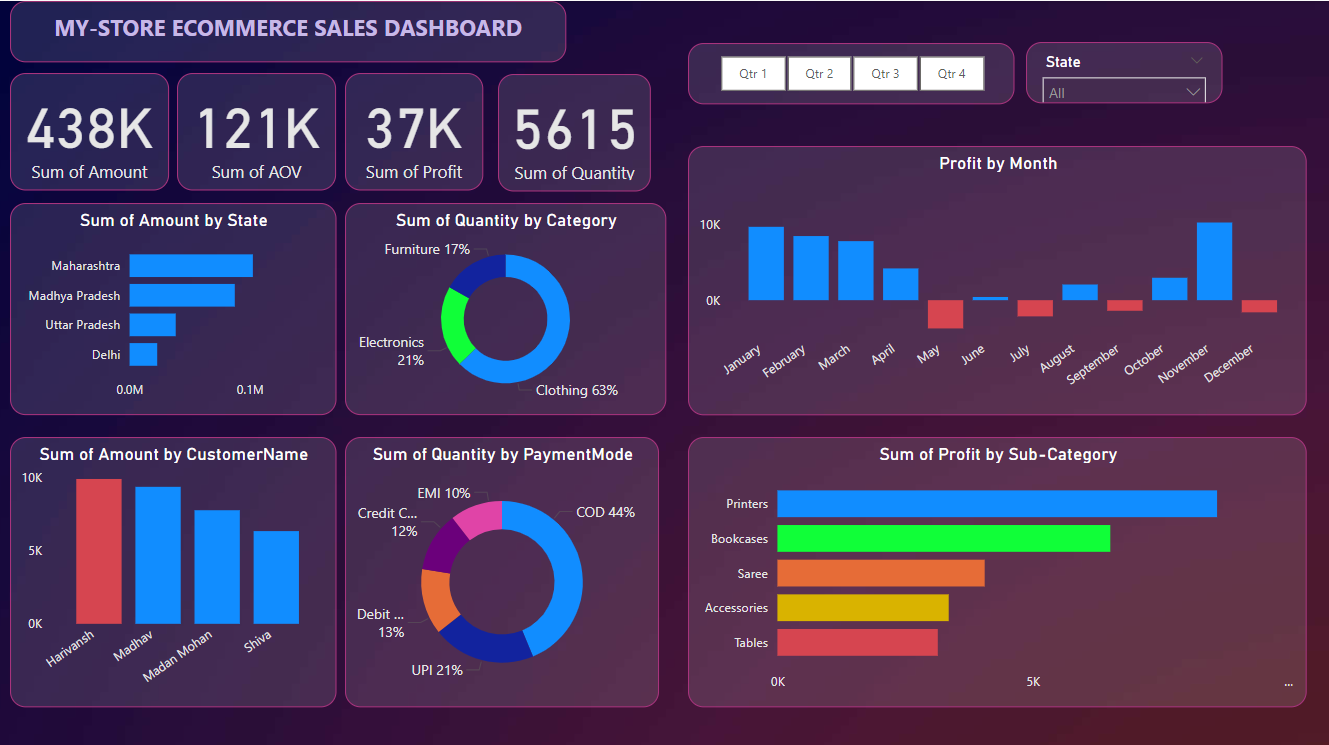

The dashboard page shown, as its layout file describes it:
{"tool":"powerbi","page":{"name":"Page 1","canvas":[1280,720],"ordinal":0},"visuals":[{"type":"textbox","box":[9.7,0,535,59.3],"z":0},{"type":"columnChart","title":" Profit by Month","fields":{"Category":["Orders.Order Date.Variation.Date Hierarchy.Month"],"Y":["Sum(Details.Profit)"]},"box":[661.6,139.4,595.3,258.7],"z":1000},{"type":"barChart","fields":{"Category":["Details.Sub-Category"],"Y":["Sum(Details.Profit)"]},"box":[661.6,419.3,595.3,259.7],"z":2000},{"type":"donutChart","fields":{"Category":["Details.Category"],"Y":["Sum(Details.Quantity)"]},"box":[331.8,194.3,308.7,203.9],"z":3000},{"type":"donutChart","fields":{"Y":["Sum(Details.Quantity)"],"Category":["Details.PaymentMode"]},"box":[331.8,419.3,302,259.7],"z":4000},{"type":"card","fields":{"Values":["Sum(Details.Amount)"]},"box":[9.6,69.2,152.9,113.5],"z":5000},{"type":"card","fields":{"Values":["Sum(Details.AOV)"]},"box":[170.2,69.2,152.9,112.5],"z":6000},{"type":"card","fields":{"Values":["Sum(Details.Profit)"]},"box":[331.8,69.2,132.7,113.5],"z":7000},{"type":"card","fields":{"Values":["Sum(Details.Quantity)"]},"box":[478.9,70.2,147.1,113.5],"z":8000},{"type":"barChart","fields":{"Category":["Orders.State"],"Y":["Sum(Details.Amount)"]},"box":[9.6,194.3,313.5,203.9],"z":9000},{"type":"columnChart","fields":{"Category":["Orders.CustomerName"],"Y":["Sum(Details.Amount)"]},"box":[9.6,419.3,313.5,259.7],"z":10000},{"type":"slicer","fields":{"Values":["Orders.Order Date.Variation.Date Hierarchy.Quarter"]},"box":[661.6,40.4,314.5,58.7],"z":10001},{"type":"slicer","fields":{"Values":["Orders.State"]},"box":[986.7,39.4,189.5,58.7],"z":10002}]}

Visuals, with their boxes in screenshot pixels (x1, y1, x2, y2), scaled from the page's 1280x720 canvas onto the 1329x745 screenshot:
textbox: region(10, 0, 566, 61)
" Profit by Month" columnChart: region(687, 144, 1305, 412)
barChart - Details.Sub-Category x Sum(Details.Profit): region(687, 434, 1305, 703)
donutChart - Details.Category x Sum(Details.Quantity): region(345, 201, 665, 412)
donutChart - Sum(Details.Quantity) x Details.PaymentMode: region(345, 434, 658, 703)
card - Sum(Details.Amount): region(10, 72, 169, 189)
card - Sum(Details.AOV): region(177, 72, 335, 188)
card - Sum(Details.Profit): region(345, 72, 482, 189)
card - Sum(Details.Quantity): region(497, 73, 650, 190)
barChart - Orders.State x Sum(Details.Amount): region(10, 201, 335, 412)
columnChart - Orders.CustomerName x Sum(Details.Amount): region(10, 434, 335, 703)
slicer - Orders.Order Date.Variation.Date Hierarchy.Quarter: region(687, 42, 1013, 103)
slicer - Orders.State: region(1024, 41, 1221, 102)
